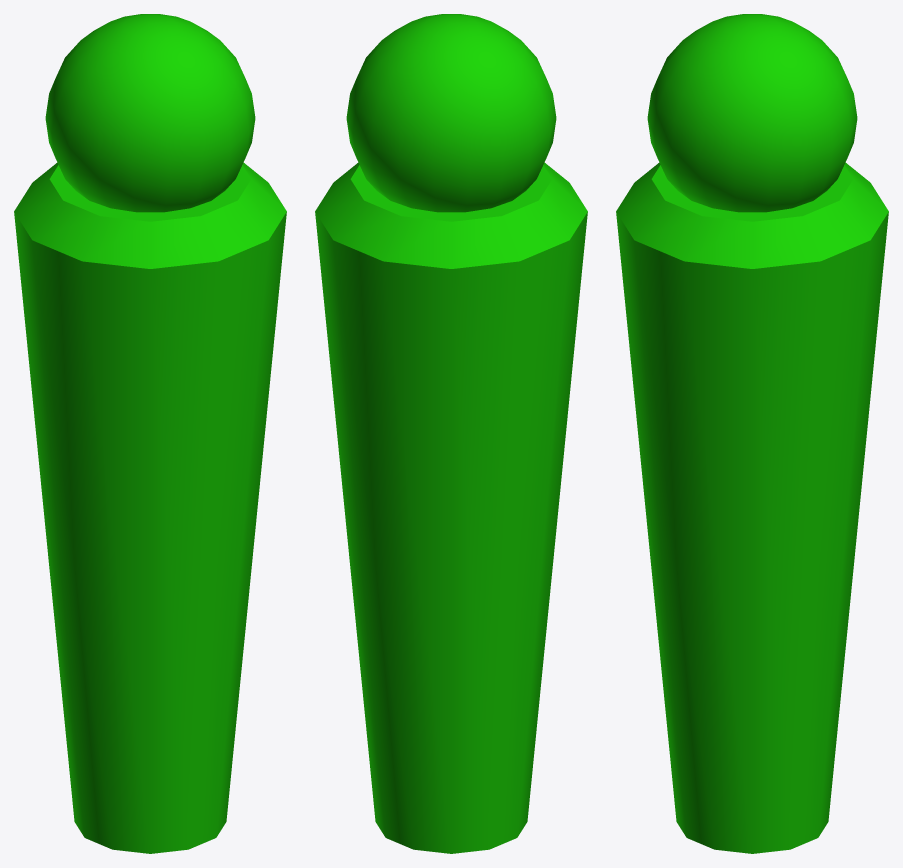
File: pawn.fbx
The picture shows the model from 3 angles, left to right: view 1: azimuth 30°, elevation 25°; view 2: azimuth 150°, elevation 25°; view 3: azimuth 270°, elevation 25°; orthographic projection.
Parts seen in each view (by area): view 1: PawnBody, PawnHead; view 2: PawnBody, PawnHead; view 3: PawnBody, PawnHead.
Part boxes in pixels (x1,y1,x2,y2): PawnBody: (14, 162, 286, 853); PawnHead: (45, 14, 255, 212); PawnBody: (315, 162, 587, 853); PawnHead: (346, 14, 556, 212); PawnBody: (616, 162, 888, 853); PawnHead: (647, 14, 857, 212).
Size of the model in its own units: 85.92 by 278 by 85.92.
